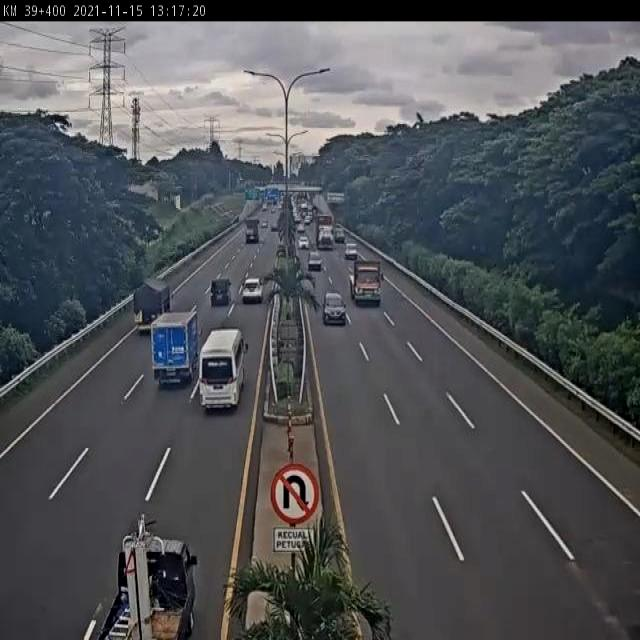Bus: (198, 324, 247, 415)
Car: (321, 292, 347, 326), (241, 277, 264, 304), (308, 251, 322, 273), (345, 243, 358, 264), (297, 235, 310, 251), (335, 226, 346, 243), (296, 224, 306, 232), (302, 215, 311, 223), (261, 219, 268, 229)
Truck: (95, 512, 202, 640), (150, 307, 202, 391), (134, 276, 175, 331), (349, 260, 386, 303), (315, 214, 335, 252), (244, 215, 260, 244)
Van: (208, 276, 233, 308)
